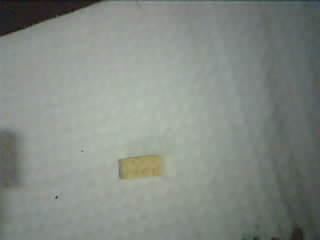lego: (113, 154, 165, 180)
